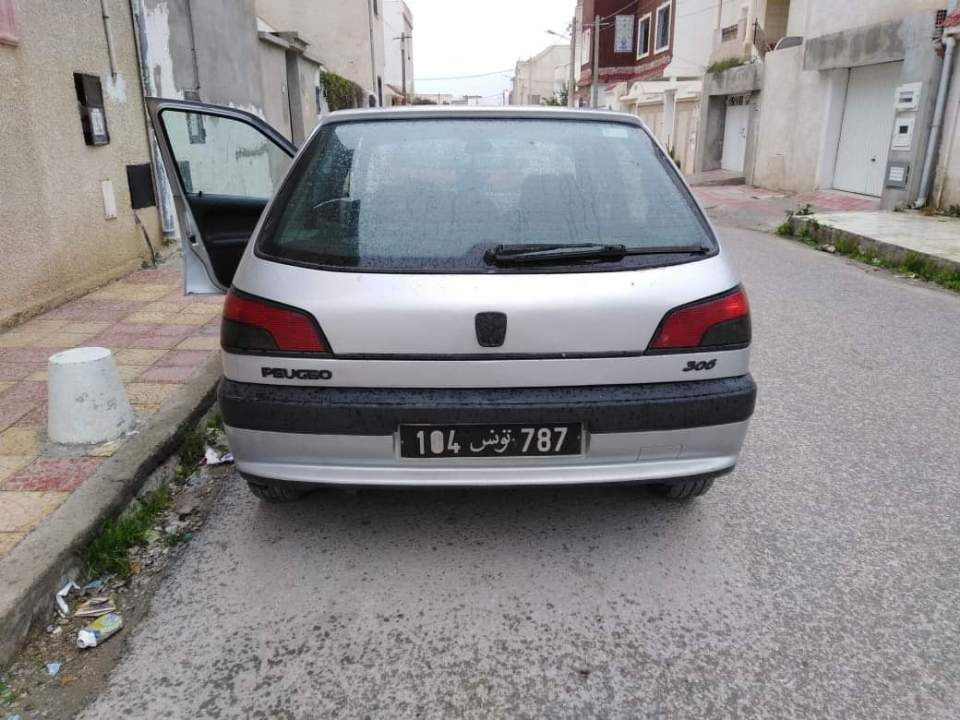LP: (399, 422, 584, 458)
